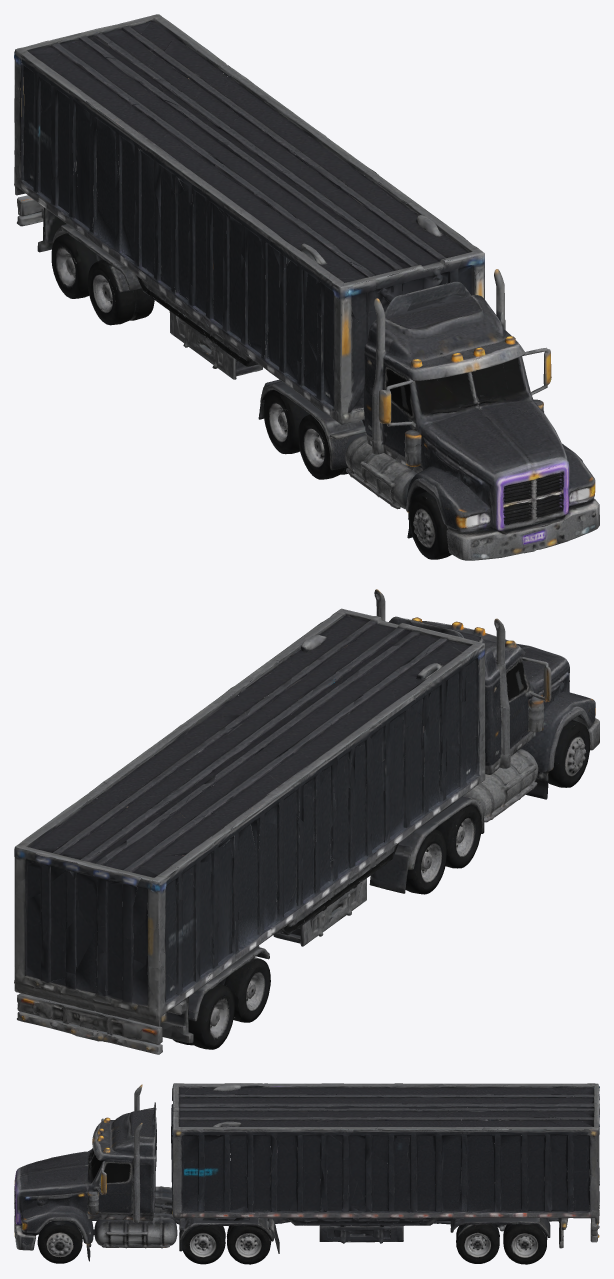
Rendered from apex-hauler.glb.
3 renders of one model, top to bottom at view 1: azimuth 30°, elevation 25°; view 2: azimuth 150°, elevation 25°; view 3: azimuth 270°, elevation 25°, orthographic. The views are drawn at different scales.
Parts seen in each view (by area): view 1: apex-hauler; view 2: apex-hauler; view 3: apex-hauler.
Part boxes in pixels (bbox=[...]): apex-hauler: bbox=[14, 14, 599, 560]; apex-hauler: bbox=[14, 589, 599, 1054]; apex-hauler: bbox=[14, 1083, 599, 1264].
Bounding box in the file's own units: 3.54 × 4.15 × 16.
Materials: 1 (1 with a texture image).
